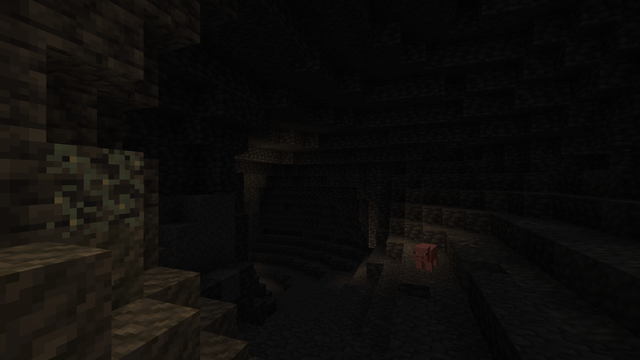cochons: (414, 242, 438, 272)
